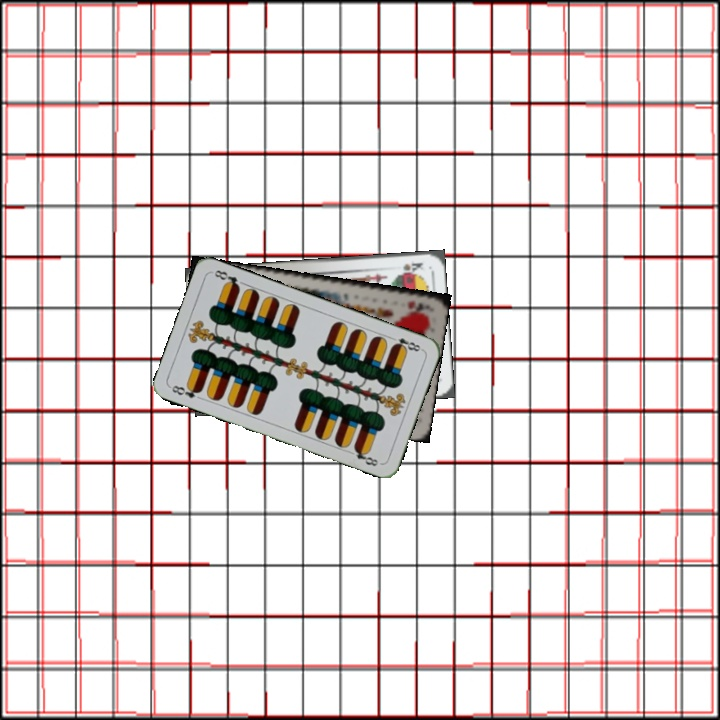E8: (386, 332, 425, 354), (167, 381, 205, 401)
HK: (403, 297, 427, 314)
SK: (397, 259, 426, 275)
